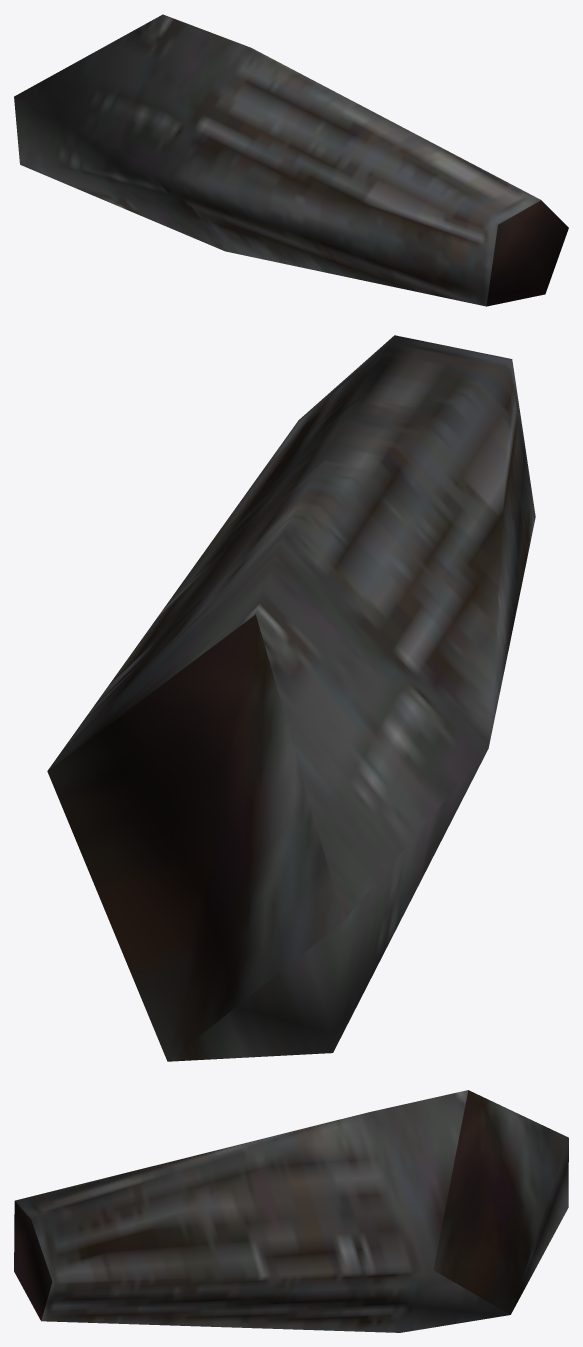
Rendered from poi_protocolarm_l3.fbx.
3 renders of one model, top to bottom at view 1: azimuth 30°, elevation 25°; view 2: azimuth 150°, elevation 25°; view 3: azimuth 270°, elevation 25°, orthographic. The views are drawn at different scales.
Visible parts, largest first — view 1: mesh_node; view 2: mesh_node; view 3: mesh_node.
Part boxes in pixels (x1,y1,x2,y2): mesh_node: [14, 14, 568, 306]; mesh_node: [47, 335, 535, 1061]; mesh_node: [14, 1090, 568, 1332].
Bounding box in the file's own units: 0.2013 × 0.1464 × 0.3445.
Materials: 1 (1 with a texture image).
